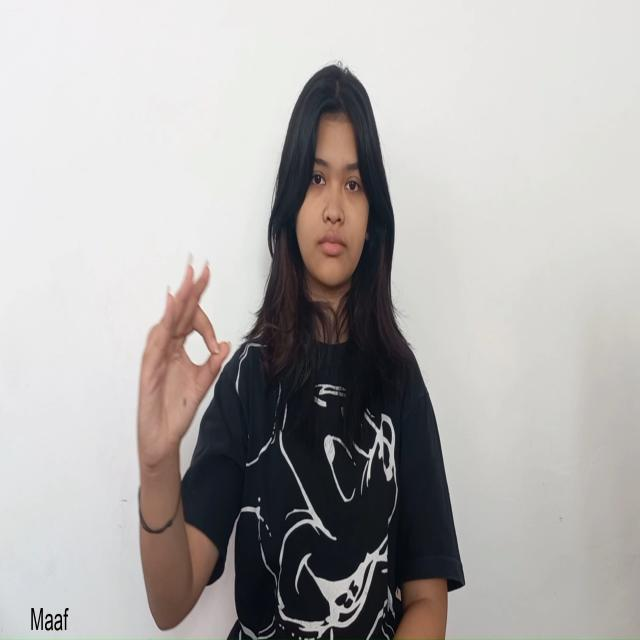Maaf -BISINDO-: (134, 249, 234, 478)
